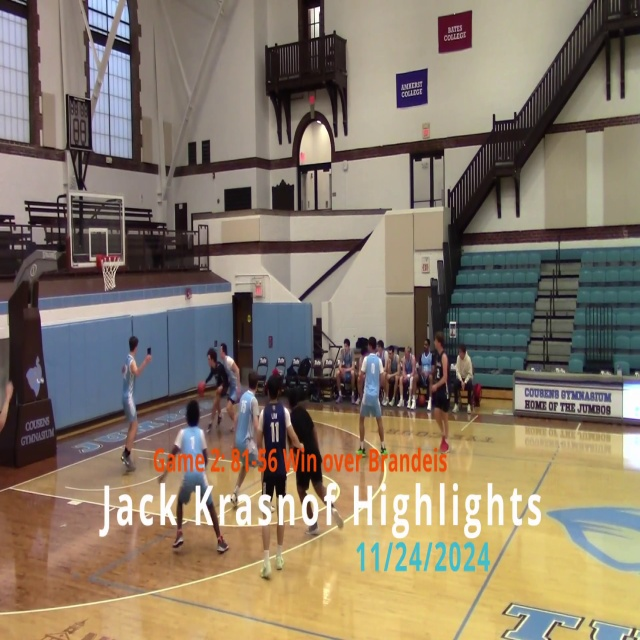Basketball: (323, 482, 340, 504), (197, 381, 205, 397)
